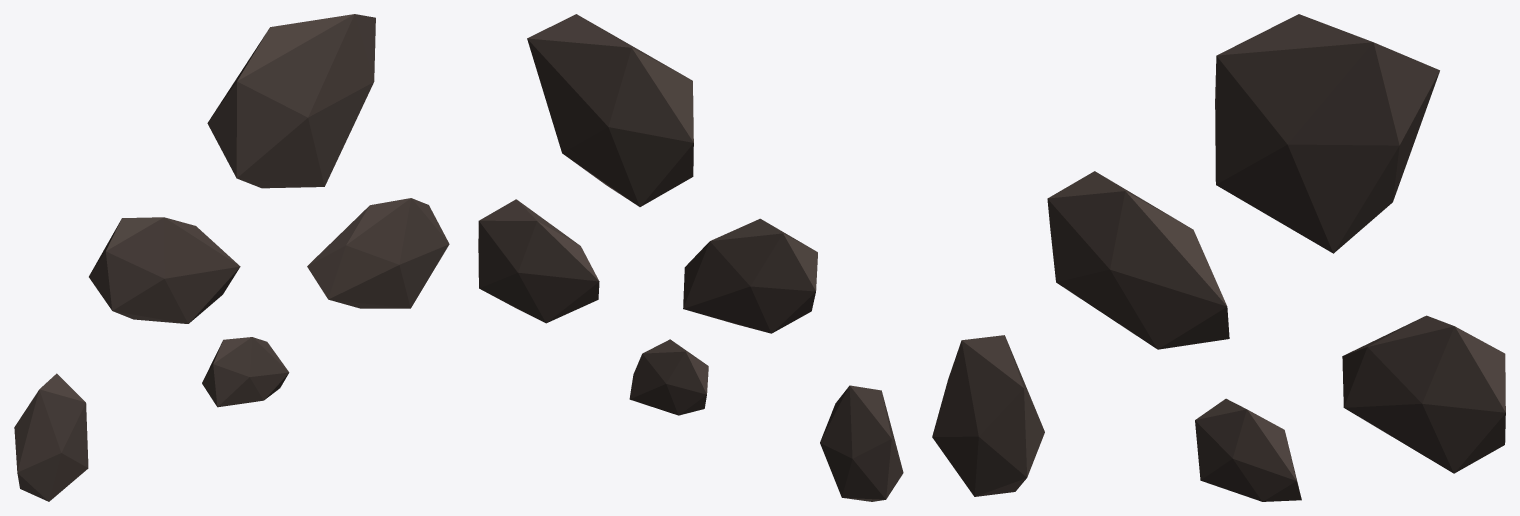
The model's file is grudki_ziemi.FBX.
3 renders of one model, left to right at view 1: azimuth 30°, elevation 25°; view 2: azimuth 150°, elevation 25°; view 3: azimuth 330°, elevation 25°, orthographic. The views are drawn at different scales.
Parts seen in each view (by area): view 1: grudki_ziemi; view 2: grudki_ziemi; view 3: grudki_ziemi.
Boxes of the visible parts, box(x1,y1,x2,y2) form: grudki_ziemi: box(14, 14, 449, 501); grudki_ziemi: box(478, 14, 903, 501); grudki_ziemi: box(932, 14, 1505, 501).
Size of the model in its own units: 117 by 108 by 15.05.
